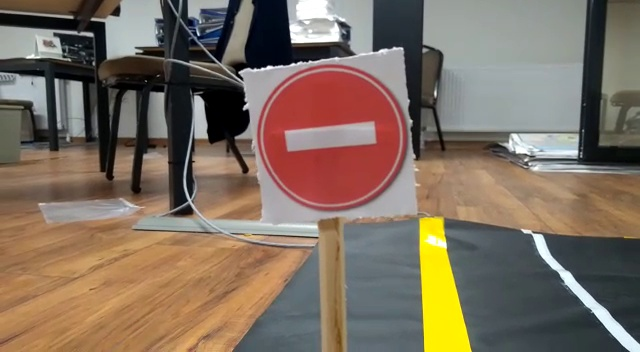girisi_olmayan_yol: (251, 51, 410, 216)
